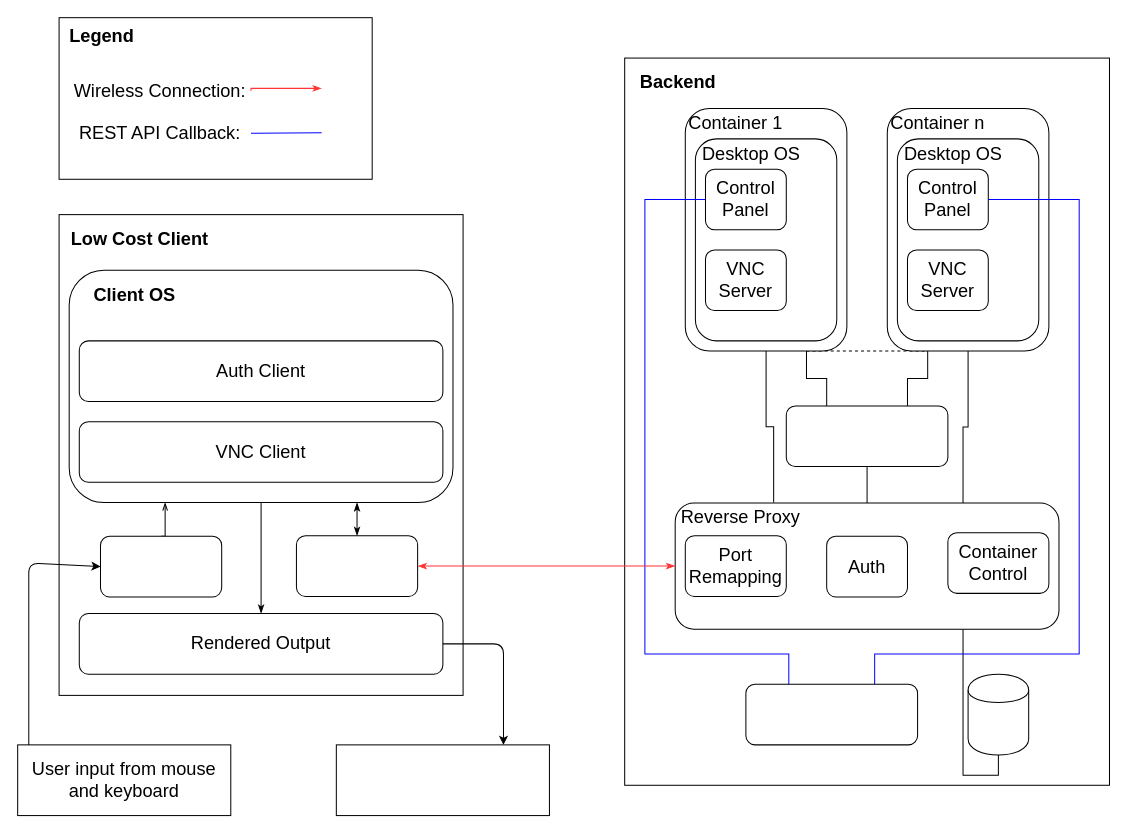
This 1127x833 diagram has some shape labels left out. The box of each missing label's shape, as (x1, y1, x2, y2) in pixels:
DB: (967, 673, 1029, 755)
Docker: (785, 405, 948, 467)
Rendered output is sent to a display: (335, 744, 549, 816)
User Input: (99, 535, 222, 597)
UWSGI Server: (745, 683, 918, 745)
WiFi: (295, 535, 418, 596)
